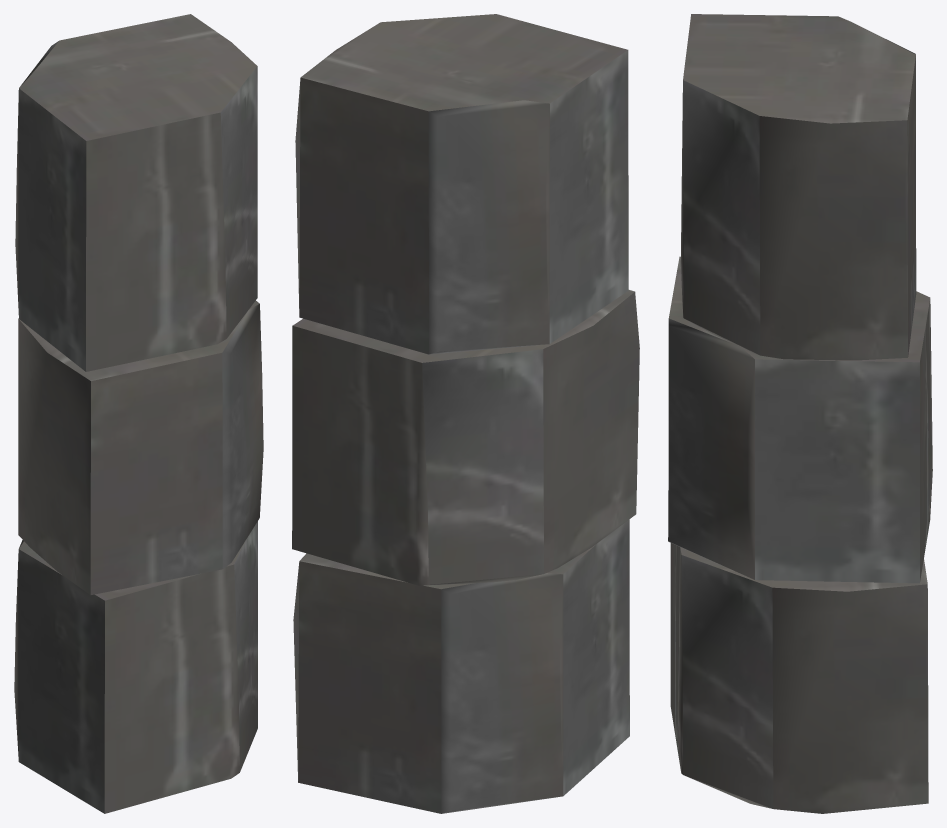
The picture shows the model from 3 angles, left to right: view 1: azimuth 30°, elevation 25°; view 2: azimuth 150°, elevation 25°; view 3: azimuth 270°, elevation 25°; orthographic projection. The views are drawn at different scales.
Parts seen in each view (by area): view 1: SM_GreatSword_Iron_2H_01_LOD0; view 2: SM_GreatSword_Iron_2H_01_LOD0; view 3: SM_GreatSword_Iron_2H_01_LOD0.
Part boxes in pixels (x1,y1,x2,y2): SM_GreatSword_Iron_2H_01_LOD0: (14,14,263,813); SM_GreatSword_Iron_2H_01_LOD0: (292,14,639,813); SM_GreatSword_Iron_2H_01_LOD0: (668,14,932,813).
Size of the model in its own units: 2.13 by 6.22 by 2.13.
